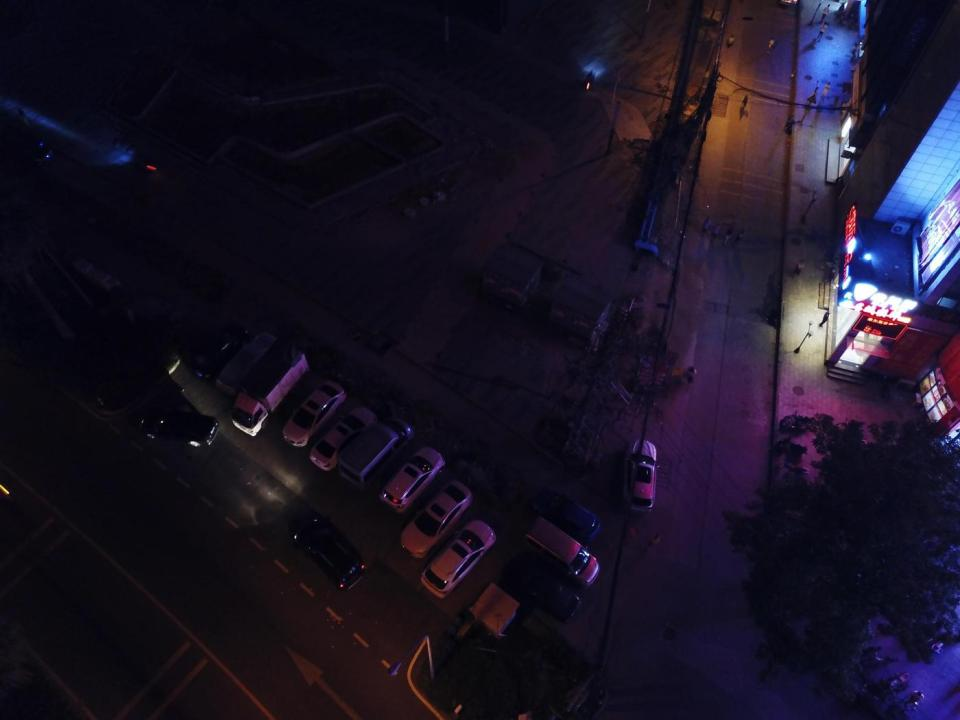car: (399, 478, 474, 560), (421, 518, 496, 600), (292, 518, 370, 592), (308, 405, 378, 472), (281, 380, 349, 448), (378, 445, 445, 514), (527, 486, 602, 547), (510, 562, 581, 624), (214, 332, 279, 396), (138, 406, 219, 448), (193, 325, 252, 382), (620, 437, 661, 515)
truck: (230, 340, 312, 438)
van: (522, 516, 600, 590), (338, 417, 415, 491)
